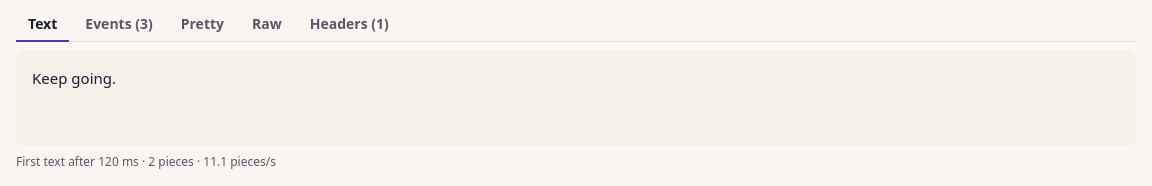
Scenario: ResponseViewer › streams › lists each event with when it arrived
The width and height of the screenshot is (1152, 186).
Click the tab "Events (3)" at (119, 25), box [73, 8, 165, 42]
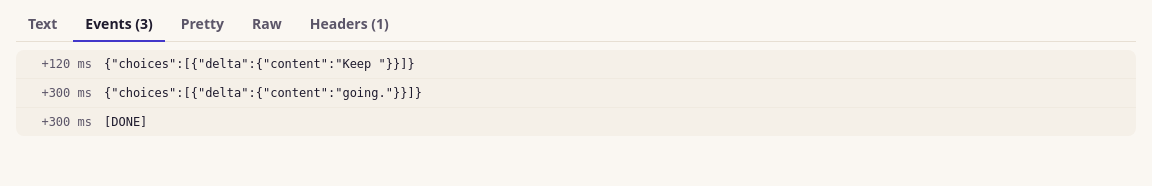
Expected: the list item "+120 ms {\"choices\":[{\"delta\":{\"content\":\"Keep \"}}]}" is shown, [16, 50, 1136, 79]
Expected: the list item "+300 ms [DONE]" is shown, [41, 115, 147, 129]
